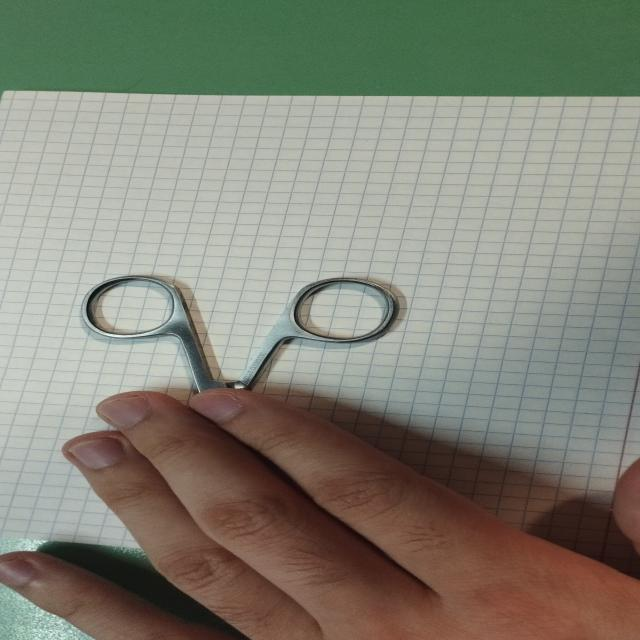tesoura: (67, 268, 415, 478)
